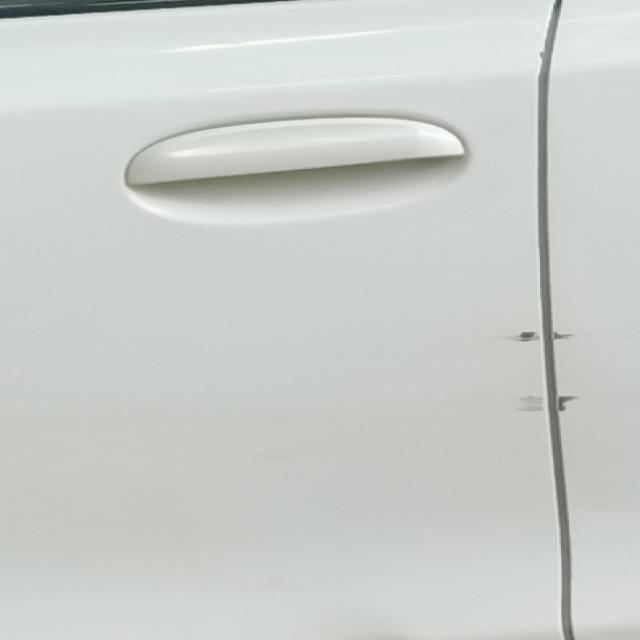scratch: (498, 317, 600, 445)
